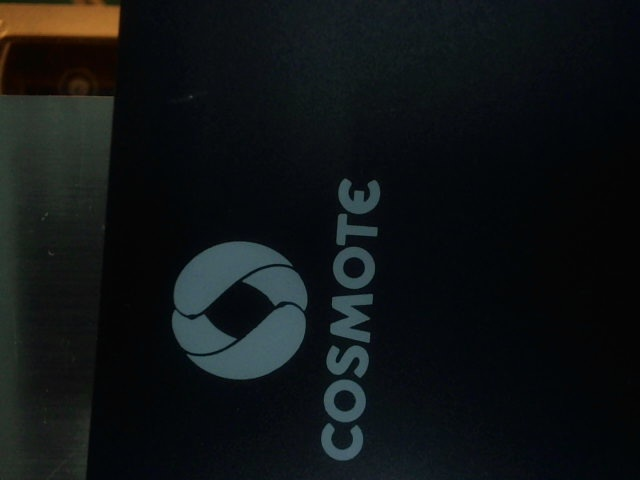AU_COSMOTE: (173, 161, 384, 461)
